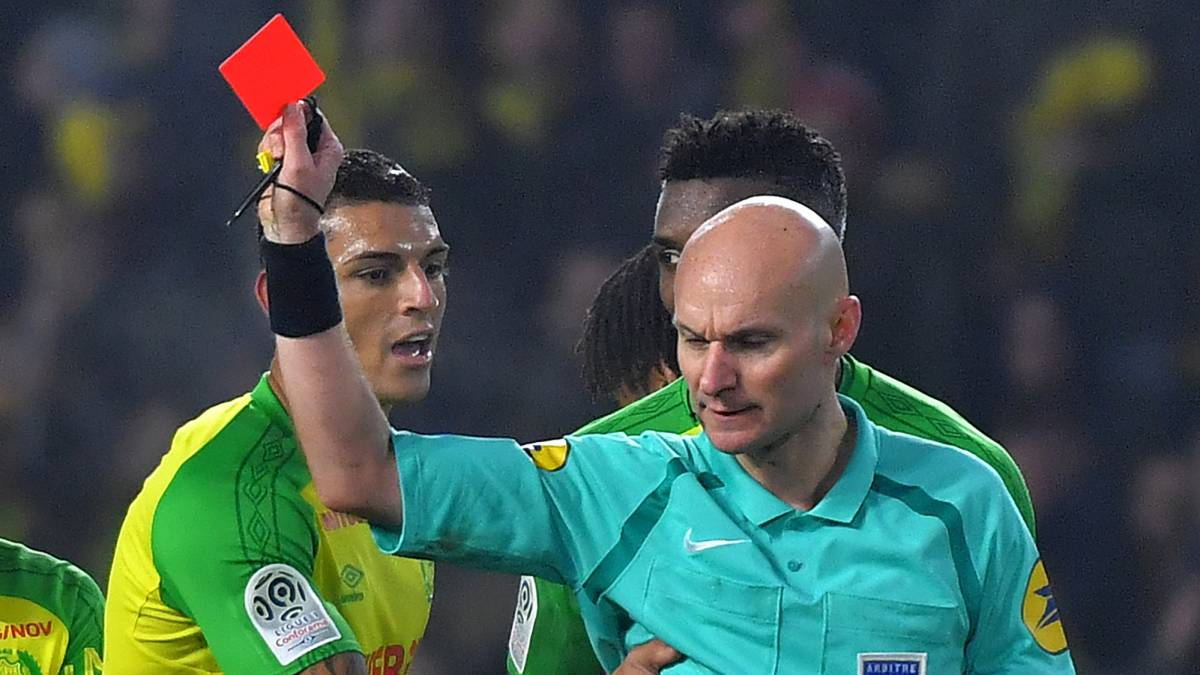red_card: (195, 16, 379, 221)
